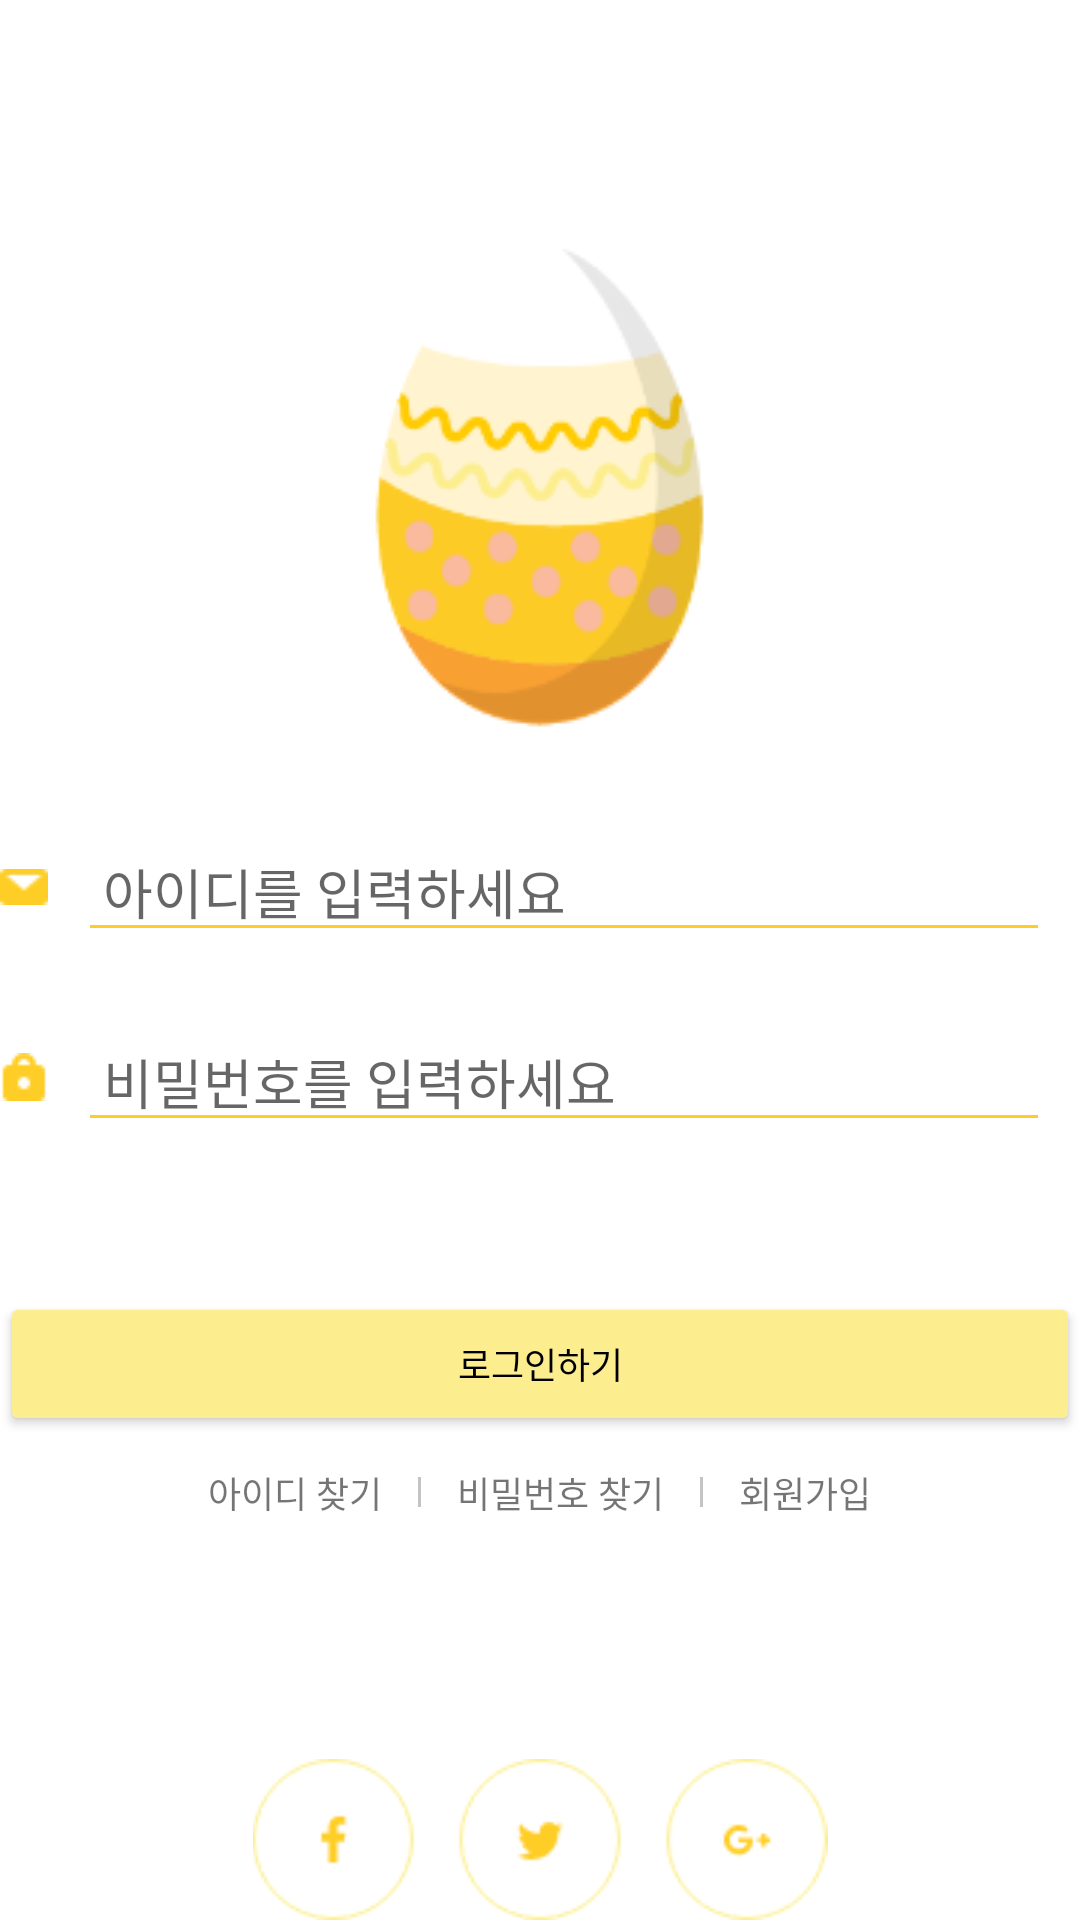

Screen size 1080px x 1920px. Icon name, then its center in pixels as [x,y]:
lock: [24,1077]
mail: [24,887]
